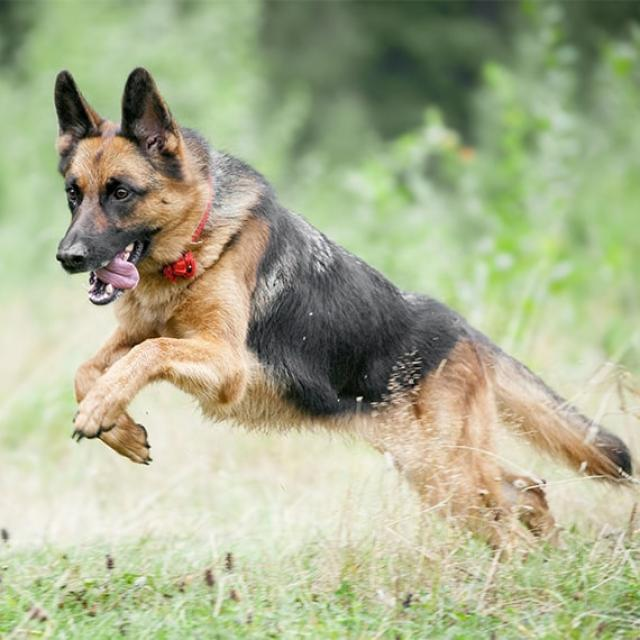GERMAN_SHEPHERD: (29, 63, 640, 571)
